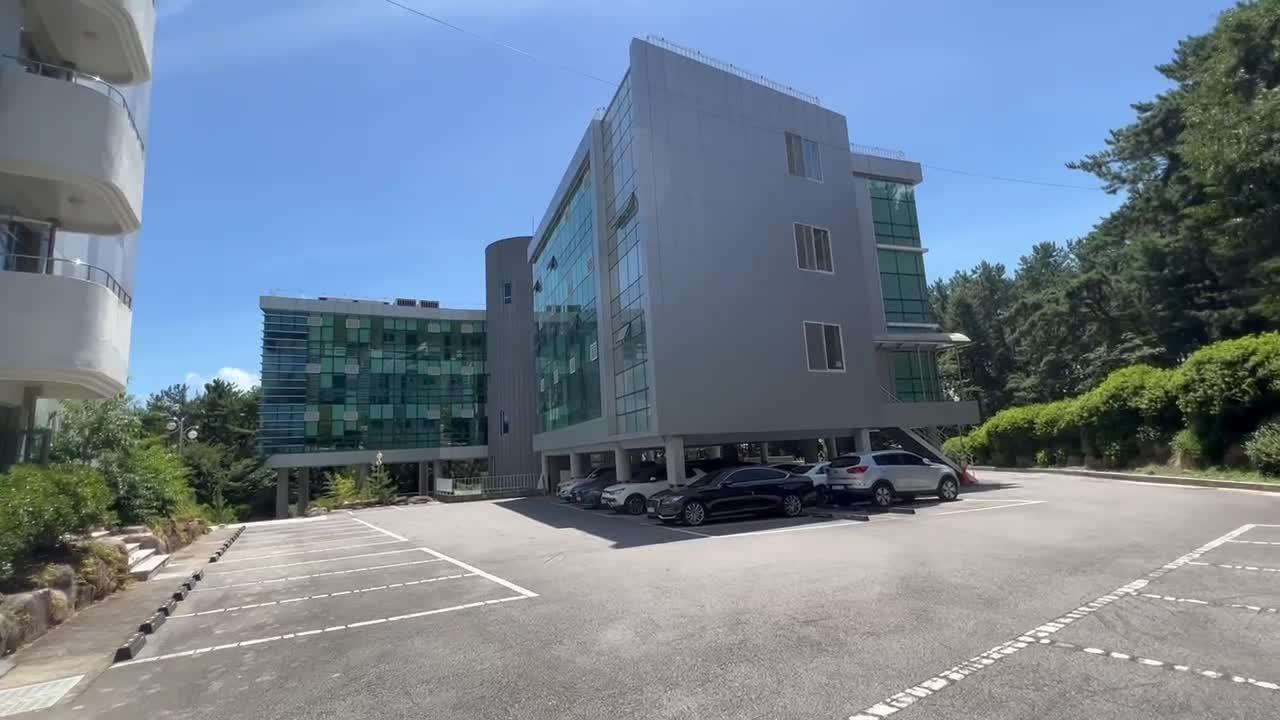building: (291, 43, 933, 436)
